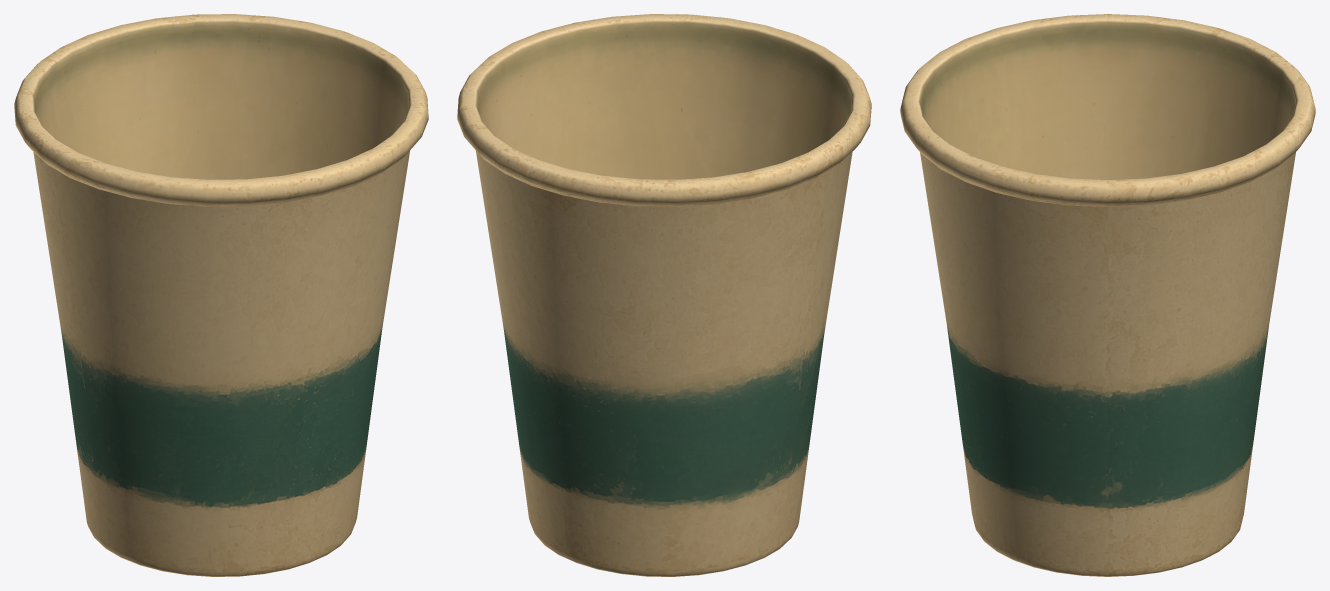
File: P54_paper_drink_cup_Runtime_1k.glb
3 views of the same model, side by side, from view 1: azimuth 30°, elevation 25°; view 2: azimuth 150°, elevation 25°; view 3: azimuth 270°, elevation 25° (orthographic).
Visible parts, largest first — view 1: tripo_node_5a7ef474; view 2: tripo_node_5a7ef474; view 3: tripo_node_5a7ef474.
Part boxes in pixels (left/top/right/bottom): tripo_node_5a7ef474: left=14, top=14, right=428, bottom=576; tripo_node_5a7ef474: left=457, top=14, right=871, bottom=576; tripo_node_5a7ef474: left=900, top=14, right=1315, bottom=576.
Bounding box in the file's own units: 0.1054 × 0.118 × 0.1054.
1 material, 1 textured.
